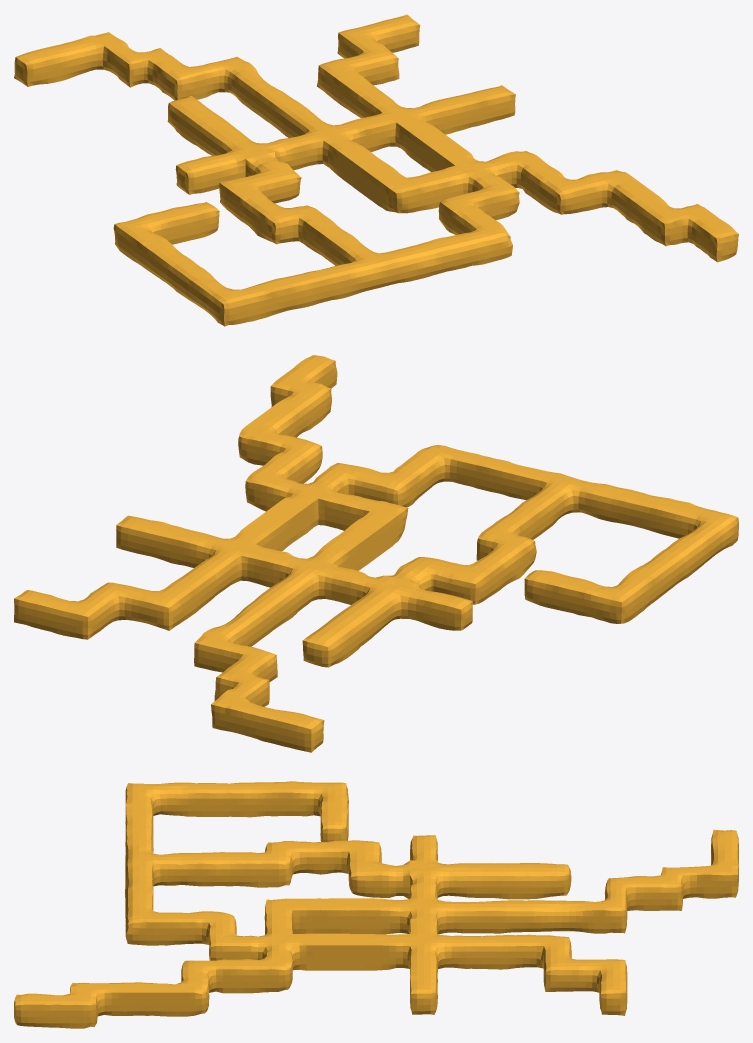
Rendered from Tunnel_2.obj.
3 views of the same model, one above another, from view 1: azimuth 30°, elevation 25°; view 2: azimuth 150°, elevation 25°; view 3: azimuth 270°, elevation 25° (orthographic). The views are drawn at different scales.
Parts seen in each view (by area): view 1: Tunnel_2; view 2: Tunnel_2; view 3: Tunnel_2.
Part boxes in pixels (bbox=[...]): Tunnel_2: bbox=[14, 14, 738, 326]; Tunnel_2: bbox=[14, 355, 738, 752]; Tunnel_2: bbox=[14, 781, 738, 1028].
Size of the model in its own units: 95.09 by 5.13 by 130.
